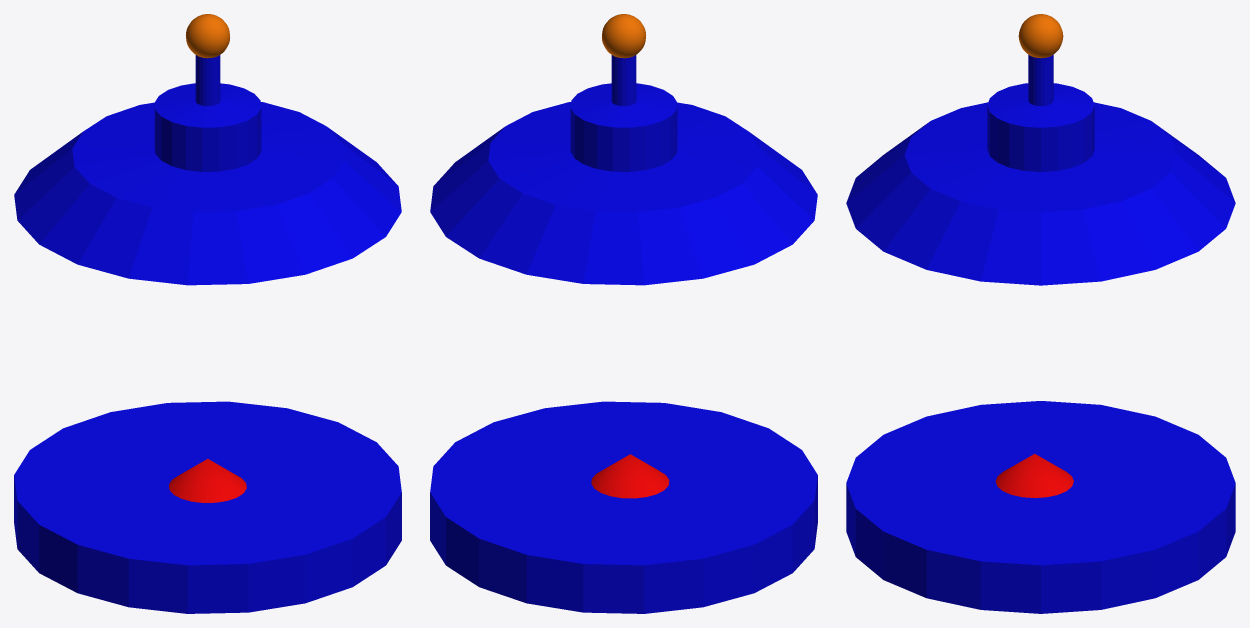
3 views of the same model, side by side, from view 1: azimuth 30°, elevation 25°; view 2: azimuth 150°, elevation 25°; view 3: azimuth 270°, elevation 25° (orthographic).
Parts seen in each view (by area): view 1: Top1, holder2, Light; view 2: Top1, holder2, Light; view 3: Top1, holder2, Light.
Part boxes in pixels (x1,y1,x2,y2): Top1: [14, 55, 401, 613]; holder2: [169, 459, 246, 502]; Light: [186, 14, 229, 58]; Top1: [430, 55, 817, 613]; holder2: [591, 454, 669, 498]; Light: [602, 14, 645, 58]; Top1: [846, 55, 1235, 613]; holder2: [995, 454, 1073, 497]; Light: [1018, 14, 1063, 58].
Bounding box in the file's own units: 710 × 1037 × 710.
